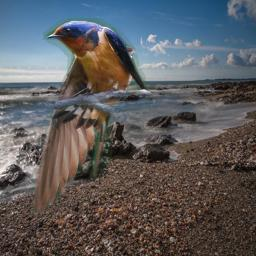Swallow: (30, 18, 155, 216)
